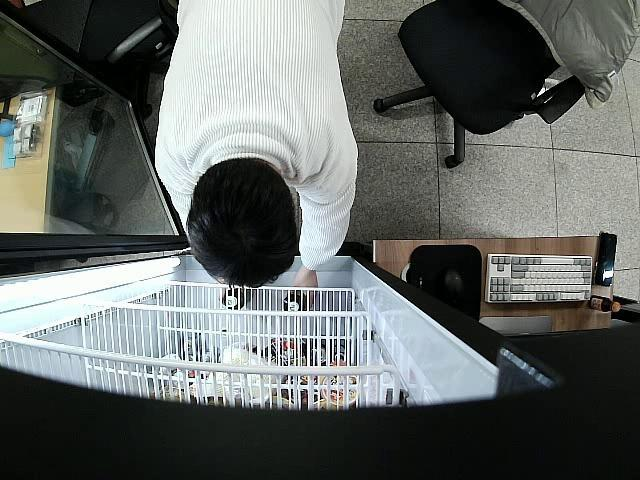19_17cha: (284, 291, 308, 314)
